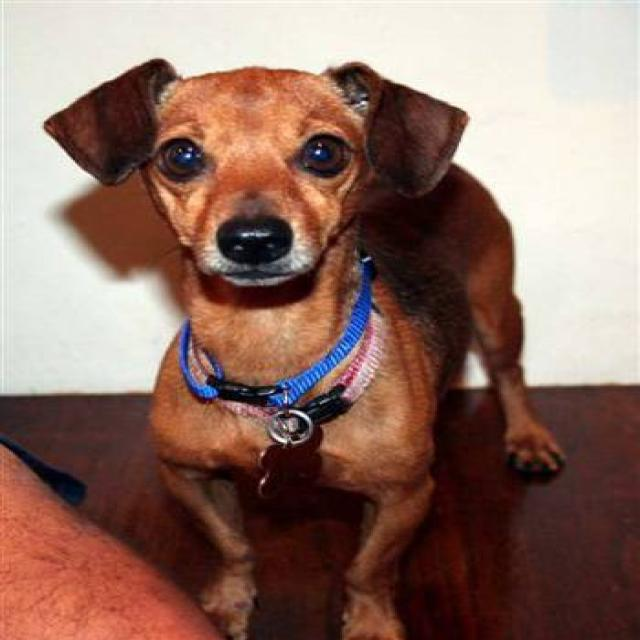dogs: (41, 38, 580, 640)
